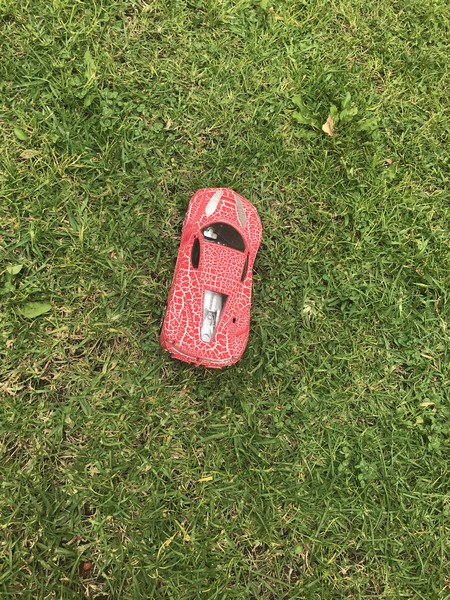RC: (157, 185, 265, 370)
